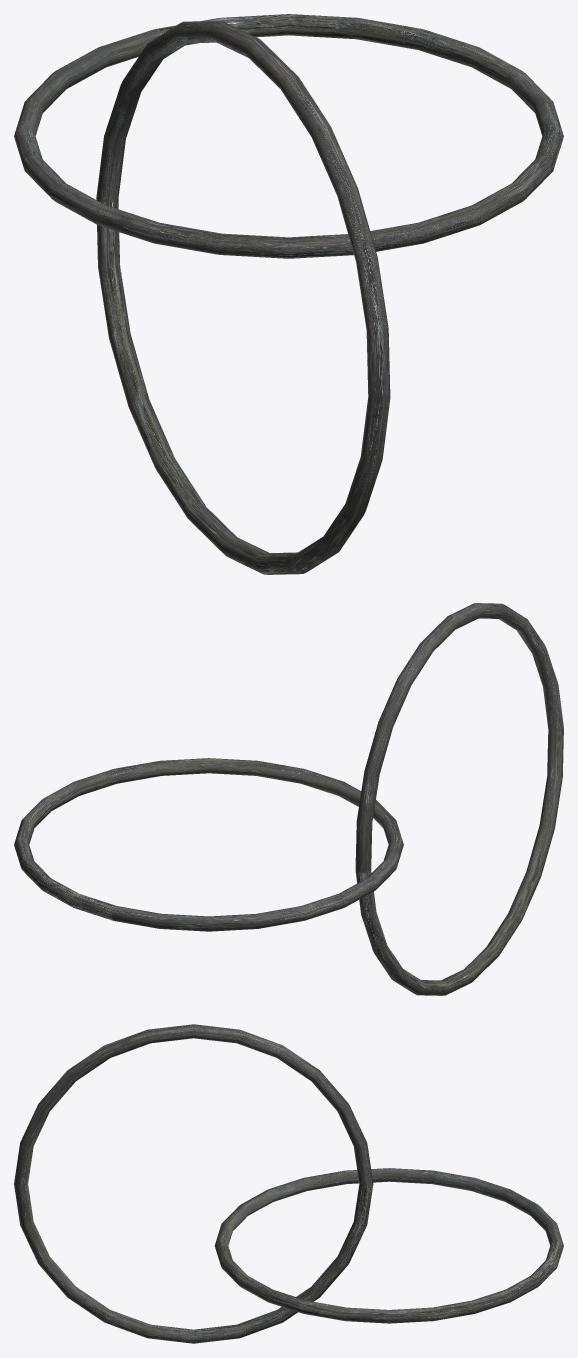
File: argola_chave.FBX
The picture shows the model from 3 angles, top to bottom: view 1: azimuth 30°, elevation 25°; view 2: azimuth 150°, elevation 25°; view 3: azimuth 270°, elevation 25°; orthographic projection. The views are drawn at different scales.
Visible parts, largest first — view 1: Torus002, Torus001; view 2: Torus002, Torus001; view 3: Torus002, Torus001.
Boxes of the visible parts, x1=… form: Torus002: x1=96, y1=21, x2=390, y2=574; Torus001: x1=14, y1=14, x2=563, y2=258; Torus002: x1=355, y1=603, x2=563, y2=995; Torus001: x1=14, y1=758, x2=403, y2=931; Torus002: x1=14, y1=1024, x2=373, y2=1343; Torus001: x1=214, y1=1168, x2=563, y2=1323.
Size of the model in its own units: 0.9 by 0.9249 by 1.42.
Materials: 1 (1 with a texture image).
